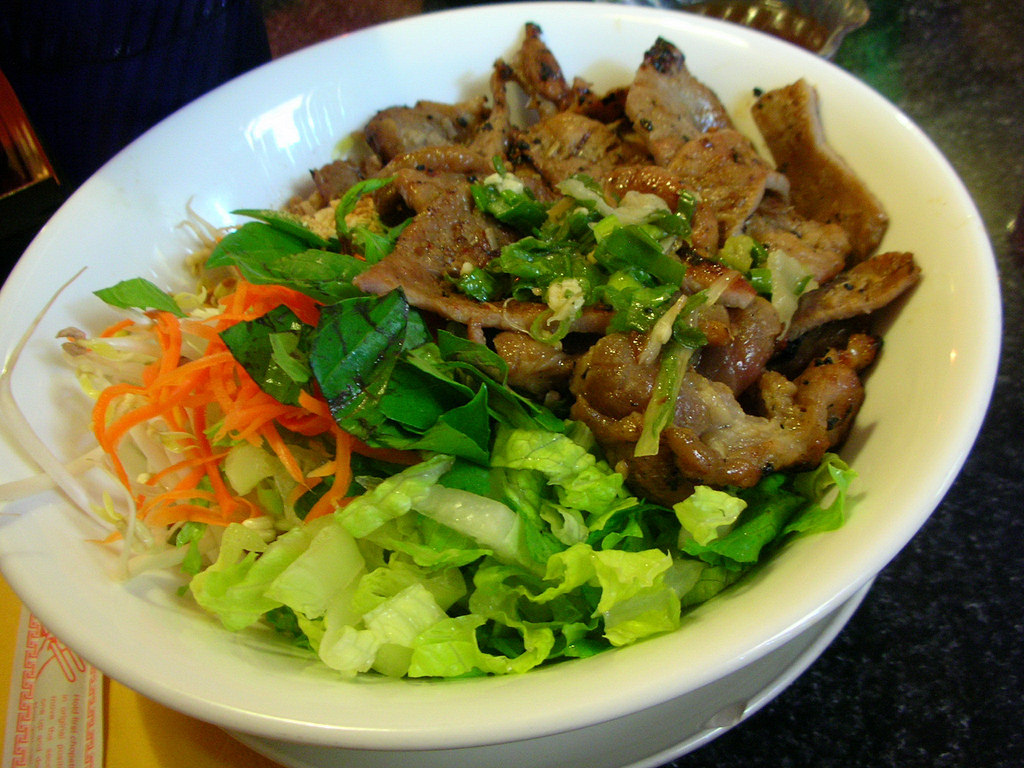chopped lettuce: (350, 512, 665, 645)
